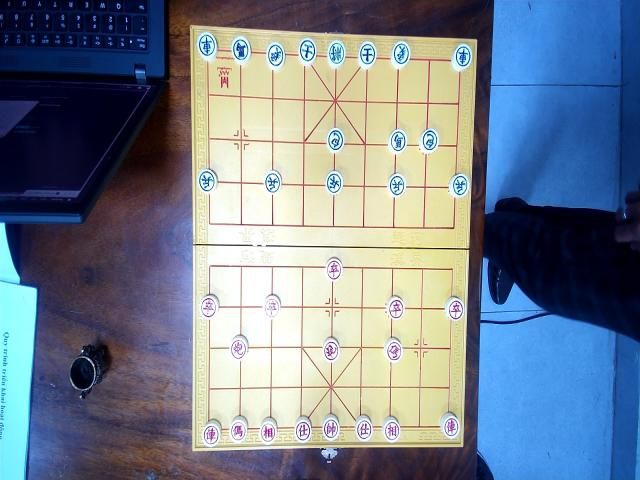piece: (450, 42, 472, 70), (230, 35, 250, 65), (197, 31, 217, 60), (448, 172, 470, 198), (440, 411, 460, 439), (326, 39, 346, 67), (202, 420, 222, 447), (390, 41, 410, 68), (266, 42, 285, 70), (199, 294, 219, 320), (382, 336, 402, 362), (382, 415, 401, 442), (298, 38, 317, 65), (444, 296, 464, 321), (418, 128, 438, 153), (197, 168, 217, 193), (354, 415, 373, 441), (387, 171, 406, 197), (294, 416, 312, 443), (259, 417, 277, 444), (229, 416, 247, 443), (358, 41, 376, 68), (322, 415, 340, 441), (322, 336, 340, 362), (326, 127, 344, 153), (230, 334, 248, 360), (386, 295, 405, 319), (388, 128, 406, 153), (324, 170, 342, 195), (324, 257, 342, 281), (264, 294, 280, 318), (264, 170, 280, 194)
